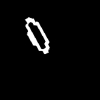chain: (26, 18, 48, 53)
